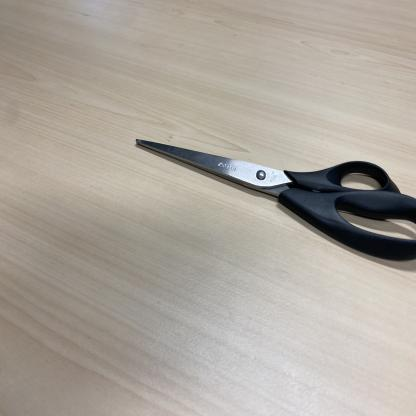scissors: (134, 136, 416, 262)
